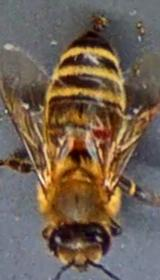varroa_mite: (87, 122, 123, 156)
